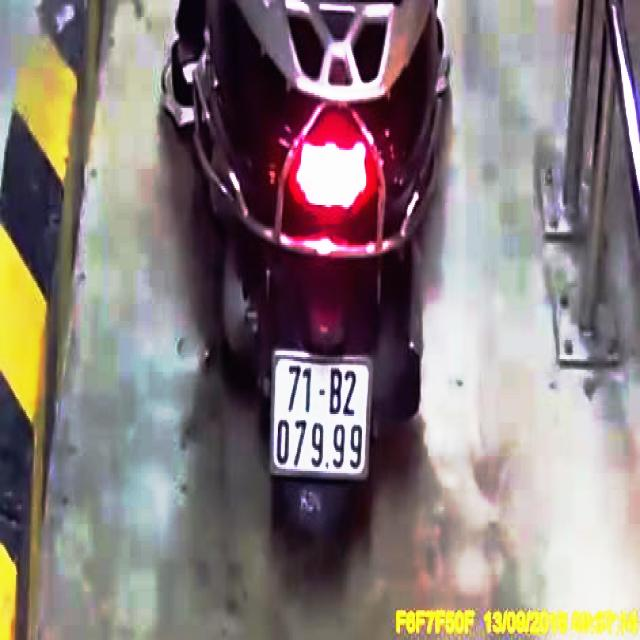license_plate: (272, 350, 373, 475)
